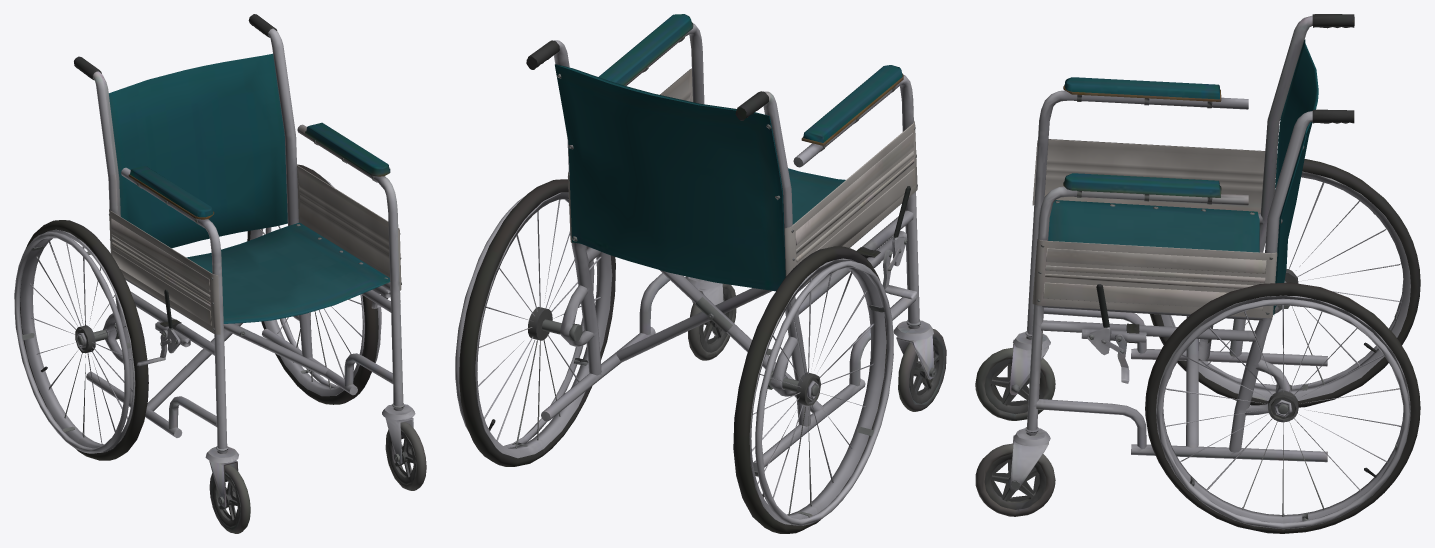
File: wheelchair.glb
3 views of the same model, side by side, from view 1: azimuth 30°, elevation 25°; view 2: azimuth 150°, elevation 25°; view 3: azimuth 270°, elevation 25° (orthographic). The views are drawn at different scales.
Visible parts, largest first — view 1: wheelchair_01; view 2: wheelchair_01; view 3: wheelchair_01.
Boxes of the visible parts, x1,y1,x2,y2 form: wheelchair_01: (14, 14, 426, 533); wheelchair_01: (455, 14, 946, 533); wheelchair_01: (975, 14, 1420, 533).
Bounding box in the file's own units: 0.824 × 1.1 × 1.09.
Materials: 1 (1 with a texture image).
